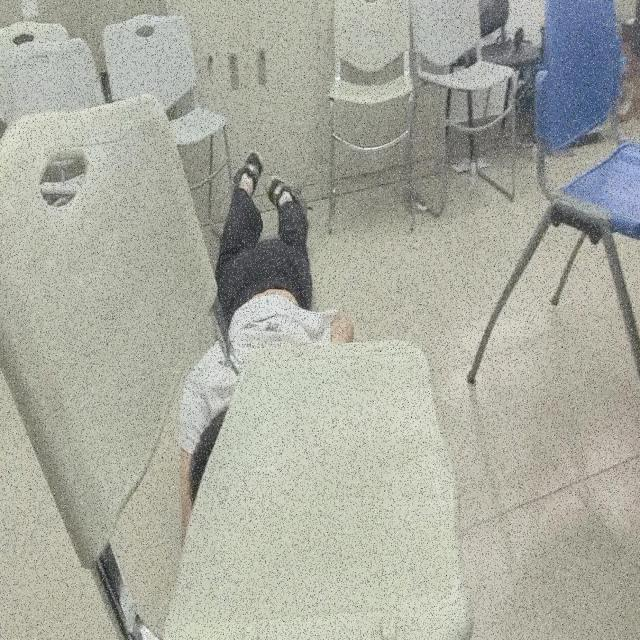fall: (173, 153, 351, 553)
